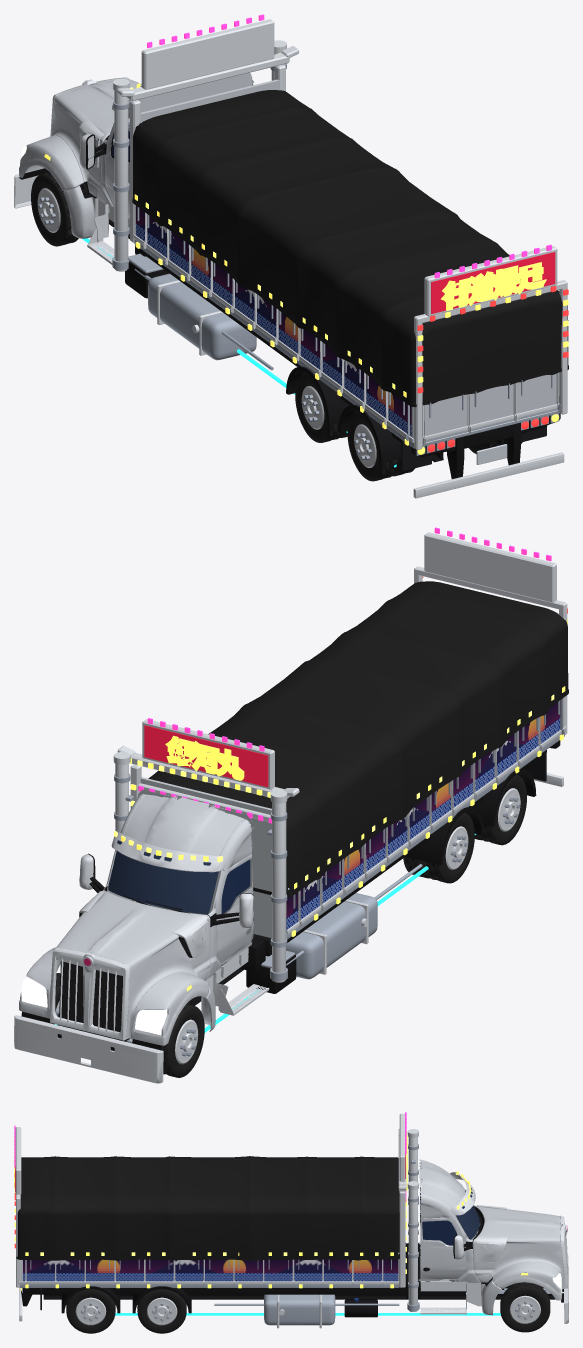
The model's file is dekotora_truck_graneleira_americana.glb.
3 renders of one model, top to bottom at view 1: azimuth 30°, elevation 25°; view 2: azimuth 150°, elevation 25°; view 3: azimuth 270°, elevation 25°, orthographic. The views are drawn at different scales.
Visible parts, largest first — view 1: truck_plastic_trim, truck_chrome, truck_paint_white_panel, truck_steel, truck_mural, truck_plastic_black, truck_lamp_amber, wheel_f_L, wheel_r_L_1.5_1.06, wheel_r_L_3.0_1.06, truck_andon_panel, truck_lamp_red (+2 smaller); view 2: truck_plastic_trim, truck_chrome, truck_paint_white_panel, truck_plastic_black, truck_steel, truck_mural, truck_glass_wind, truck_lamp_amber, truck_andon_panel, wheel_f_L, wheel_r_L_3.0_1.06, wheel_r_L_1.5_1.06 (+4 smaller); view 3: truck_plastic_trim, truck_paint_white_panel, truck_chrome, truck_mural, truck_plastic_black, truck_steel, wheel_f_R, wheel_r_R_1.5_1.06, wheel_r_R_3.0_1.06, truck_lamp_amber, truck_glass, truck_lamp_cyan (+2 smaller).
Boxes of the visible parts, box(x1,y1,x2,y2) form: truck_plastic_trim: box(132, 90, 568, 407); truck_chrome: box(14, 19, 567, 498); truck_paint_white_panel: box(19, 72, 556, 435); truck_steel: box(77, 63, 560, 455); truck_mural: box(135, 205, 413, 441); truck_plastic_black: box(19, 134, 560, 478); truck_lamp_amber: box(44, 53, 568, 454); wheel_f_L: box(31, 172, 78, 246); wheel_r_L_1.5_1.06: box(347, 410, 398, 481); wheel_r_L_3.0_1.06: box(295, 372, 343, 442); truck_andon_panel: box(431, 252, 555, 313); truck_lamp_red: box(417, 286, 568, 452); truck_plastic_trim: box(148, 581, 568, 897); truck_chrome: box(14, 532, 567, 1083); truck_paint_white_panel: box(19, 777, 271, 1045); truck_plastic_black: box(21, 740, 560, 1050); truck_steel: box(56, 698, 564, 1042); truck_mural: box(286, 700, 560, 932); truck_glass_wind: box(108, 840, 218, 914); truck_lamp_amber: box(121, 619, 567, 991); truck_andon_panel: box(144, 725, 268, 787); wheel_f_L: box(161, 1004, 204, 1077); wheel_r_L_3.0_1.06: box(423, 813, 474, 883); wheel_r_L_1.5_1.06: box(479, 774, 526, 845); truck_plastic_trim: box(16, 1156, 399, 1260); truck_paint_white_panel: box(398, 1159, 564, 1315); truck_chrome: box(15, 1113, 568, 1328); truck_mural: box(23, 1259, 398, 1281); truck_plastic_black: box(21, 1187, 563, 1317); truck_steel: box(20, 1144, 550, 1325); wheel_f_R: box(500, 1282, 550, 1332); wheel_r_R_1.5_1.06: box(66, 1289, 115, 1333); wheel_r_R_3.0_1.06: box(137, 1289, 186, 1333); truck_lamp_amber: box(14, 1131, 528, 1291); truck_glass: box(420, 1190, 457, 1245); truck_lamp_cyan: box(115, 1313, 500, 1315).
Size of the model in its own units: 2.94 by 4.15 by 11.7.
20 materials, 5 textured.
